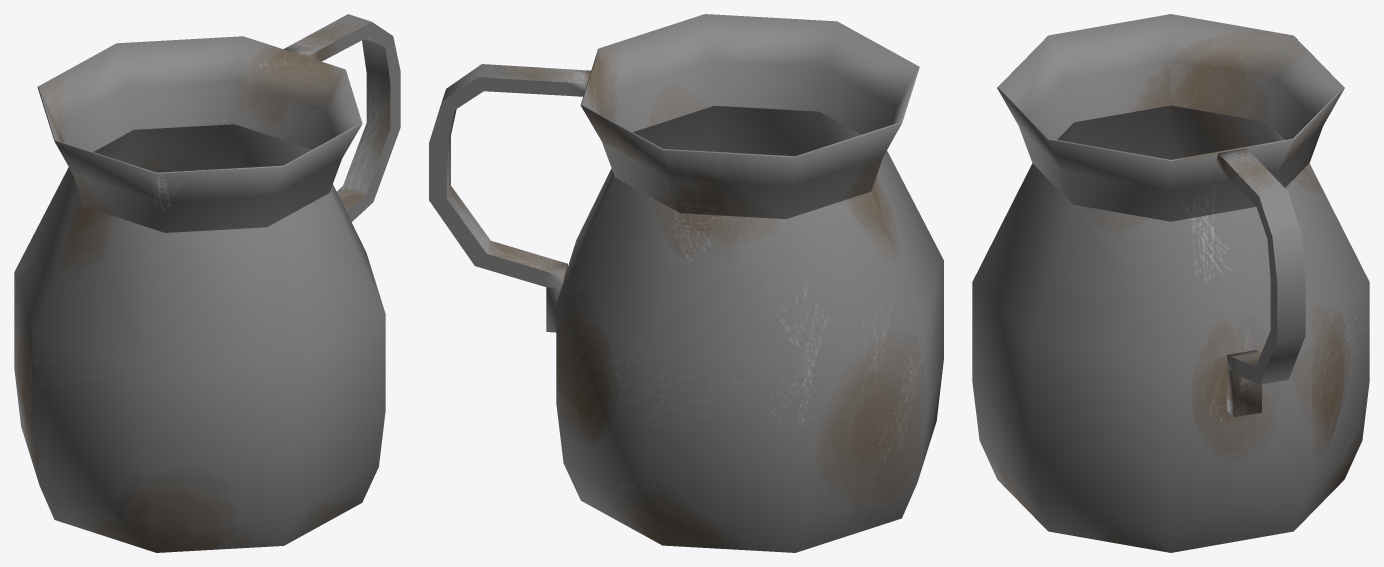
The model's file is chocolatera_.fbx.
3 renders of one model, left to right at view 1: azimuth 30°, elevation 25°; view 2: azimuth 150°, elevation 25°; view 3: azimuth 270°, elevation 25°, orthographic. The views are drawn at different scales.
Visible parts, largest first — view 1: Chocolatera_Term; view 2: Chocolatera_Term; view 3: Chocolatera_Term.
Boxes of the visible parts, left/top/right/bottom form: Chocolatera_Term: left=14, top=14, right=400, bottom=552; Chocolatera_Term: left=429, top=14, right=943, bottom=552; Chocolatera_Term: left=972, top=14, right=1369, bottom=552.
Size of the model in its own units: 17.36 by 15.05 by 13.81.
1 material, 1 textured.
